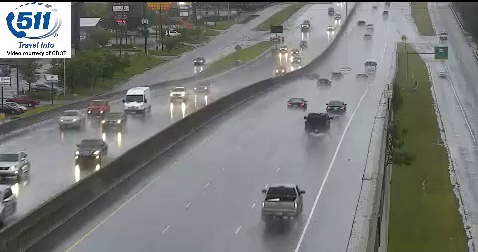car: (261, 183, 302, 217), (304, 113, 330, 133), (326, 100, 345, 115), (286, 97, 307, 110)
